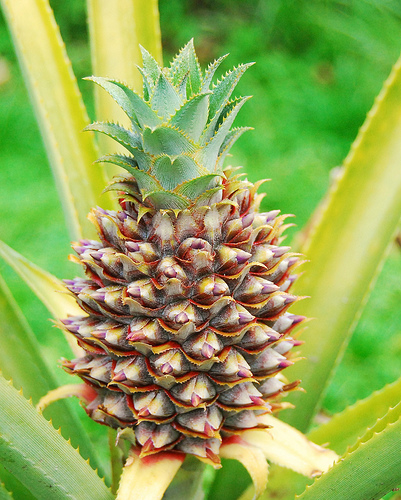pineapple: (45, 33, 314, 471)
